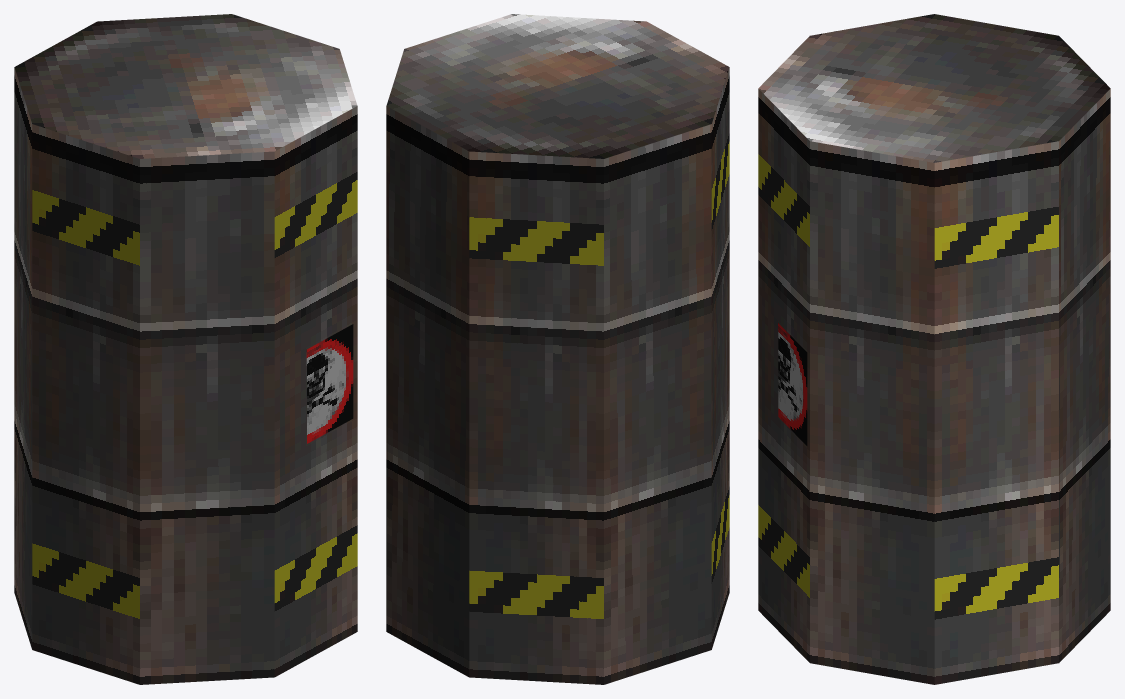
The model's file is primary_031.glb.
3 renders of one model, left to right at view 1: azimuth 30°, elevation 25°; view 2: azimuth 150°, elevation 25°; view 3: azimuth 270°, elevation 25°, orthographic.
Parts seen in each view (by area): view 1: Object; view 2: Object; view 3: Object.
Part boxes in pixels (box(x1,y1,x2,y2)): Object: box(14, 14, 357, 684); Object: box(386, 14, 729, 684); Object: box(758, 14, 1110, 684).
Size of the model in its own units: 0.9169 by 1.5 by 0.9168.
9 materials, 9 textured.
